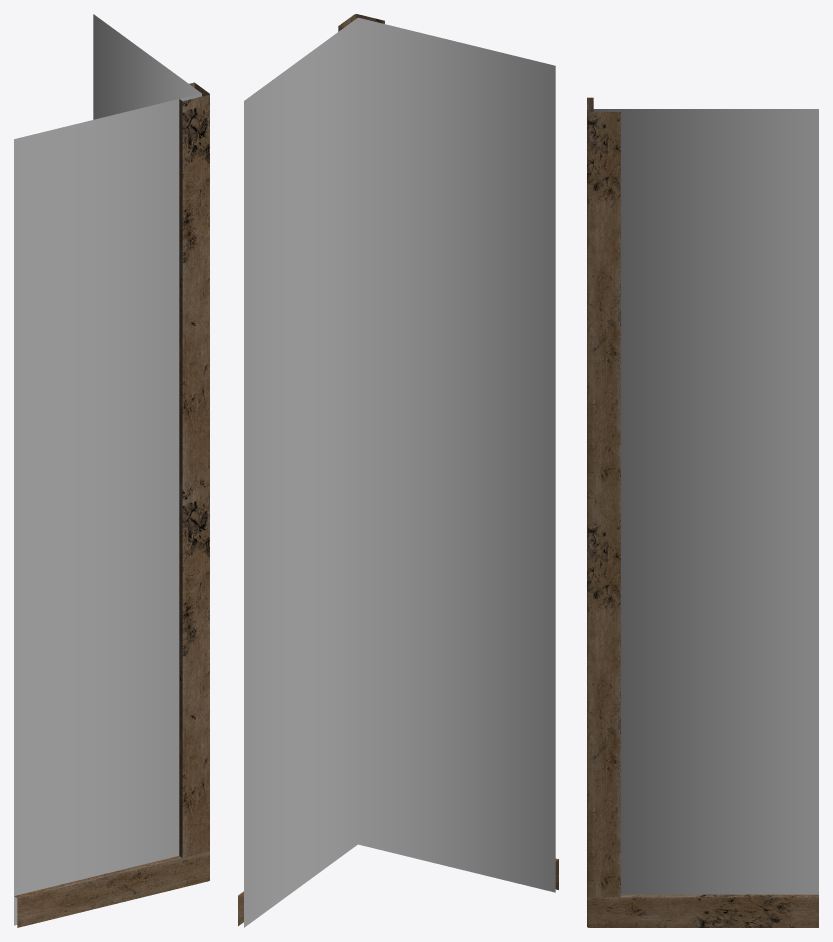
Rendered from SM_Basement_Wall_02.fbx.
3 views of the same model, side by side, from view 1: azimuth 30°, elevation 25°; view 2: azimuth 150°, elevation 25°; view 3: azimuth 270°, elevation 25° (orthographic). The views are drawn at different scales.
Visible parts, largest first — view 1: SM_Basement_Wall_02; view 2: SM_Basement_Wall_02; view 3: SM_Basement_Wall_02.
Part boxes in pixels (left/top/right/bottom): SM_Basement_Wall_02: left=14, top=14, right=209, bottom=927; SM_Basement_Wall_02: left=238, top=14, right=558, bottom=927; SM_Basement_Wall_02: left=587, top=97, right=818, bottom=927.
Bounding box in the file's own units: 103 × 400 × 103.
